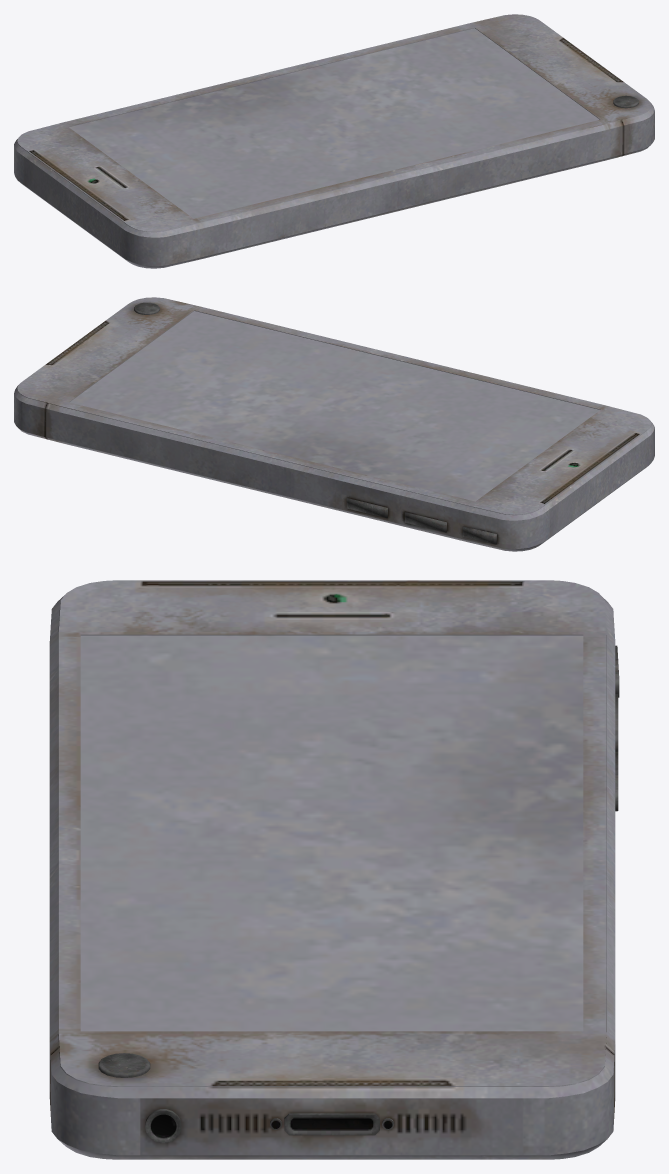
Rendered from phone_theta.DAE.
The picture shows the model from 3 angles, top to bottom: view 1: azimuth 30°, elevation 25°; view 2: azimuth 150°, elevation 25°; view 3: azimuth 270°, elevation 25°; orthographic projection. The views are drawn at different scales.
Visible parts, largest first — view 1: phone_theta; view 2: phone_theta; view 3: phone_theta.
Boxes of the visible parts, left/top/right/bottom form: phone_theta: left=14, top=14, right=654, bottom=268; phone_theta: left=14, top=297, right=654, bottom=551; phone_theta: left=49, top=580, right=619, bottom=1159.
Bounding box in the file's own units: 0.2375 × 0.0184 × 0.1111.
